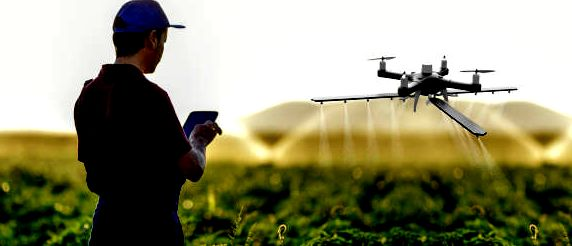Drone: (362, 50, 496, 99)
